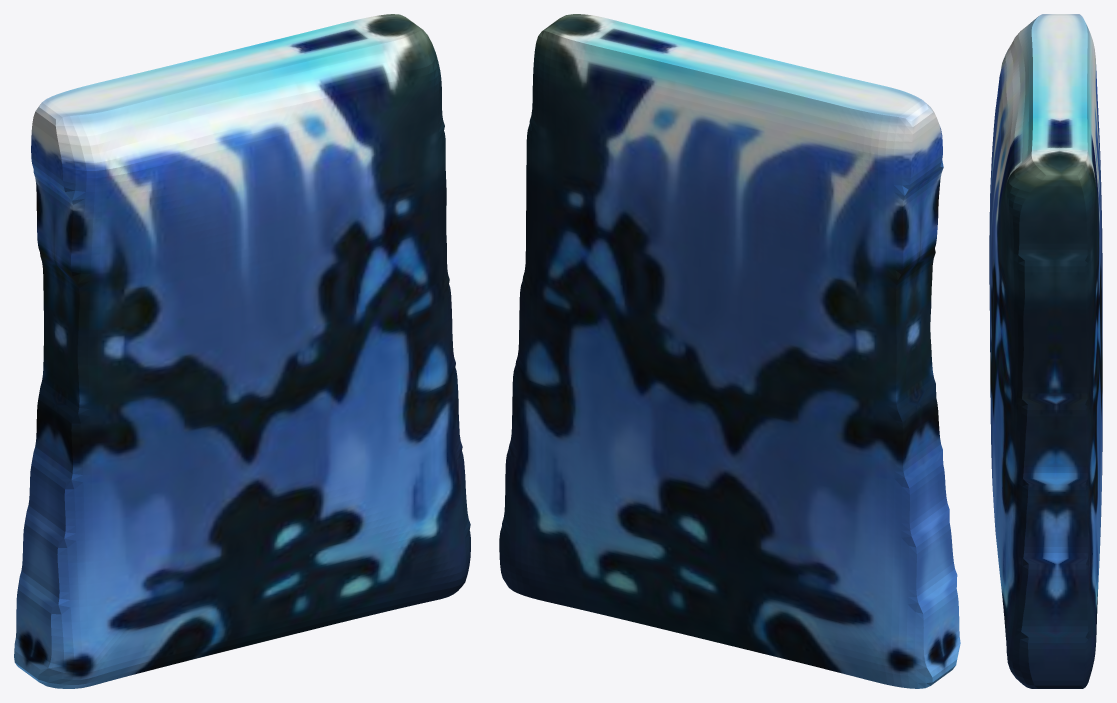
Rendered from small_waterfall.glb.
3 renders of one model, left to right at view 1: azimuth 30°, elevation 25°; view 2: azimuth 150°, elevation 25°; view 3: azimuth 270°, elevation 25°, orthographic. The views are drawn at different scales.
Visible parts, largest first — view 1: geometry_0; view 2: geometry_0; view 3: geometry_0.
Boxes of the visible parts, box(x1,y1,x2,y2) form: geometry_0: box(14, 14, 470, 688); geometry_0: box(499, 14, 960, 688); geometry_0: box(989, 14, 1102, 688).
Bounding box in the file's own units: 2.36 × 2.96 × 0.6025.
Materials: 1 (1 with a texture image).
